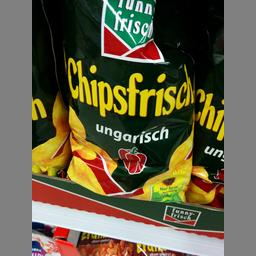chips: (58, 0, 196, 202)
